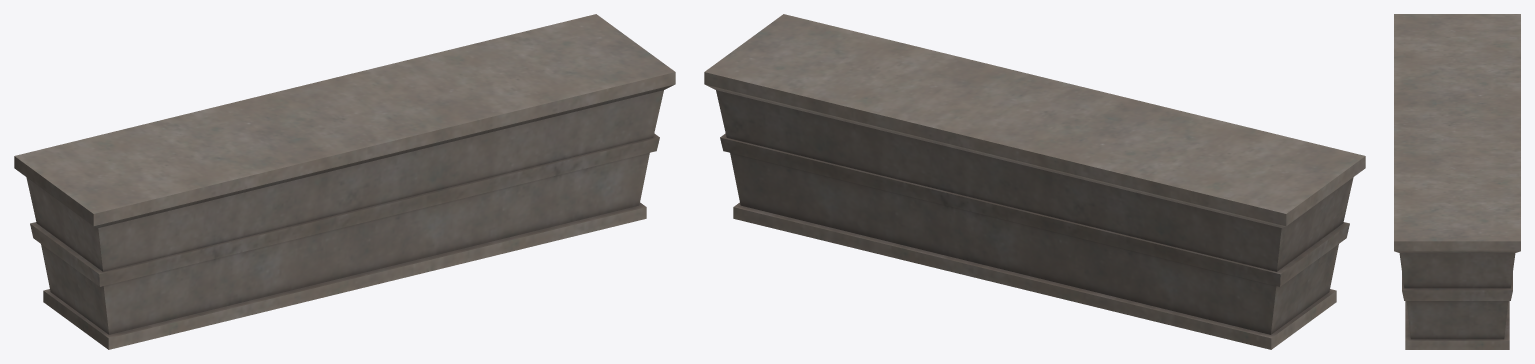
File: sb_obj_outdoor009_AncientTemple_WallTopA_col.fbx
3 views of the same model, side by side, from view 1: azimuth 30°, elevation 25°; view 2: azimuth 150°, elevation 25°; view 3: azimuth 270°, elevation 25° (orthographic). The views are drawn at different scales.
Parts seen in each view (by area): view 1: sb_obj_outdoor009_AncientTemple_WallTopA_col; view 2: sb_obj_outdoor009_AncientTemple_WallTopA_col; view 3: sb_obj_outdoor009_AncientTemple_WallTopA_col.
Boxes of the visible parts, box(x1,y1,x2,y2) form: sb_obj_outdoor009_AncientTemple_WallTopA_col: box(14, 14, 675, 349); sb_obj_outdoor009_AncientTemple_WallTopA_col: box(704, 14, 1365, 349); sb_obj_outdoor009_AncientTemple_WallTopA_col: box(1394, 14, 1520, 349).
Size of the model in its own units: 8.26 by 1.98 by 1.95.
